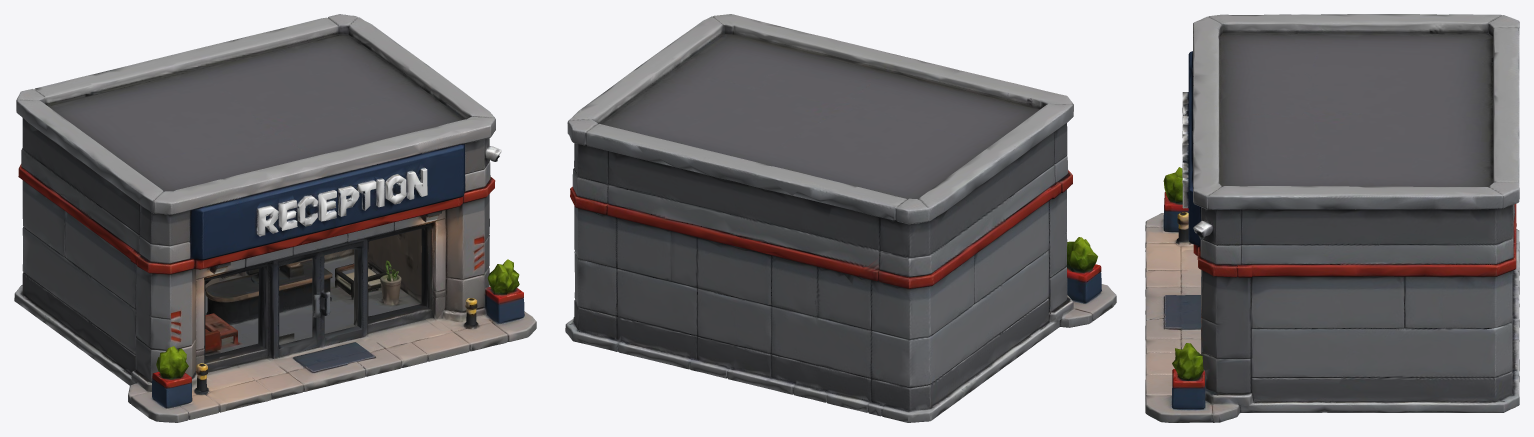
The model's file is reception_1k_real.glb.
The picture shows the model from 3 angles, left to right: view 1: azimuth 30°, elevation 25°; view 2: azimuth 150°, elevation 25°; view 3: azimuth 270°, elevation 25°; orthographic projection. The views are drawn at different scales.
Parts seen in each view (by area): view 1: tripo_node_4fdda95a-9bf2-431b-bd51-f5f110c70298; view 2: tripo_node_4fdda95a-9bf2-431b-bd51-f5f110c70298; view 3: tripo_node_4fdda95a-9bf2-431b-bd51-f5f110c70298.
Part boxes in pixels (x1,y1,x2,y2): tripo_node_4fdda95a-9bf2-431b-bd51-f5f110c70298: (14, 14, 536, 422); tripo_node_4fdda95a-9bf2-431b-bd51-f5f110c70298: (565, 14, 1116, 422); tripo_node_4fdda95a-9bf2-431b-bd51-f5f110c70298: (1145, 14, 1519, 422).
Bounding box in the file's own units: 1 × 0.502 × 0.7807.
1 material, 1 textured.
